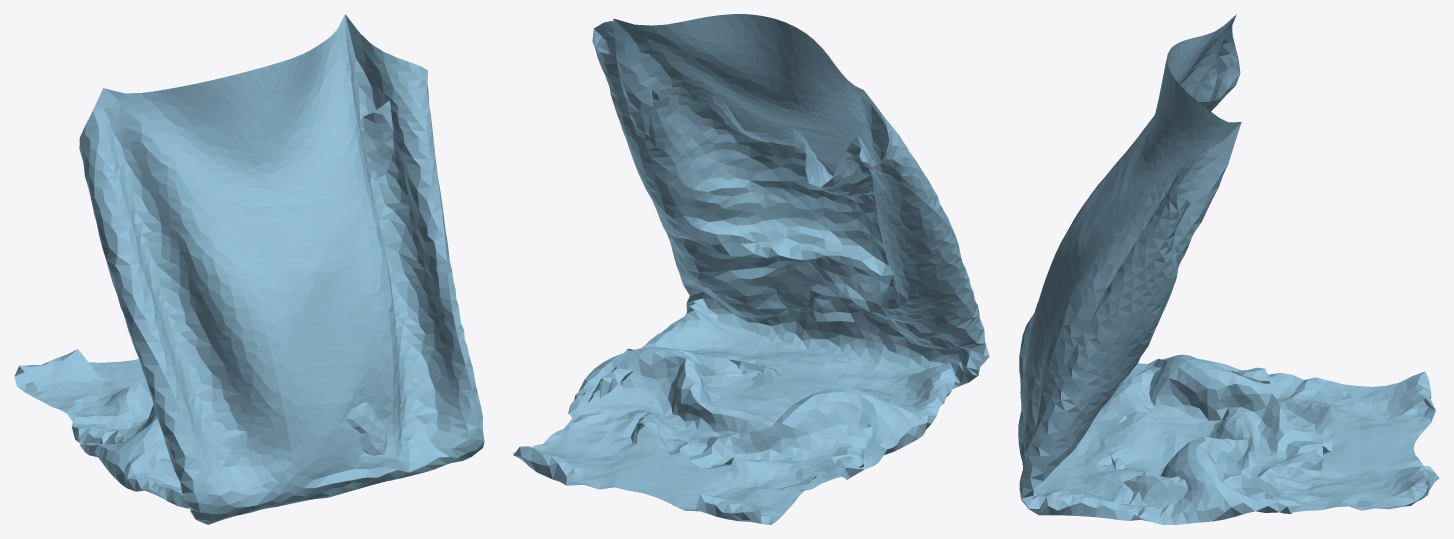
Rendered from frame_14.glb.
3 renders of one model, left to right at view 1: azimuth 30°, elevation 25°; view 2: azimuth 150°, elevation 25°; view 3: azimuth 270°, elevation 25°, orthographic.
Visible parts, largest first — view 1: frame_14.obj; view 2: frame_14.obj; view 3: frame_14.obj.
Boxes of the visible parts, x1,y1,x2,y2 form: frame_14.obj: (14,14,484,524); frame_14.obj: (513,14,989,524); frame_14.obj: (1018,14,1439,524).
Size of the model in its own units: 0.8604 by 0.9656 by 0.9417.
